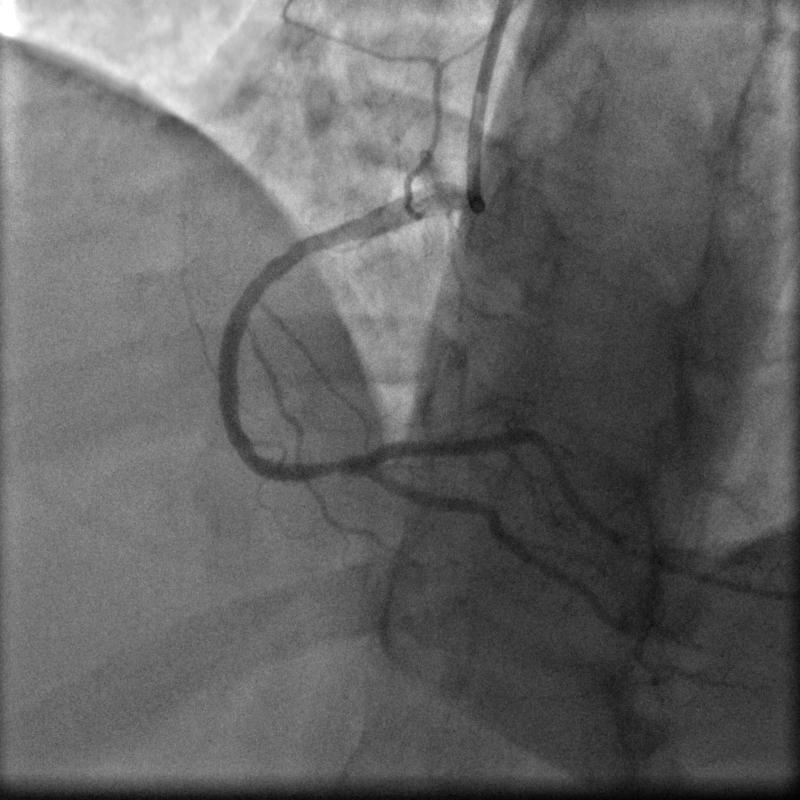Stenosis: (318, 455, 357, 480)
